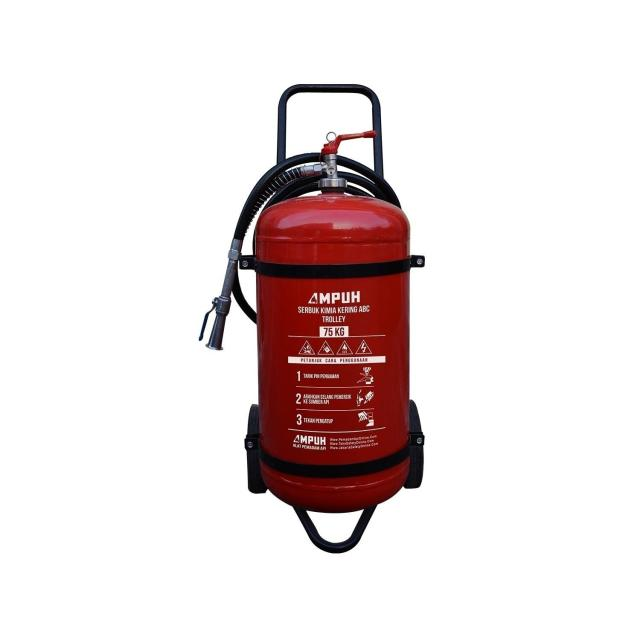fire_extinguisher: (192, 123, 427, 518)
